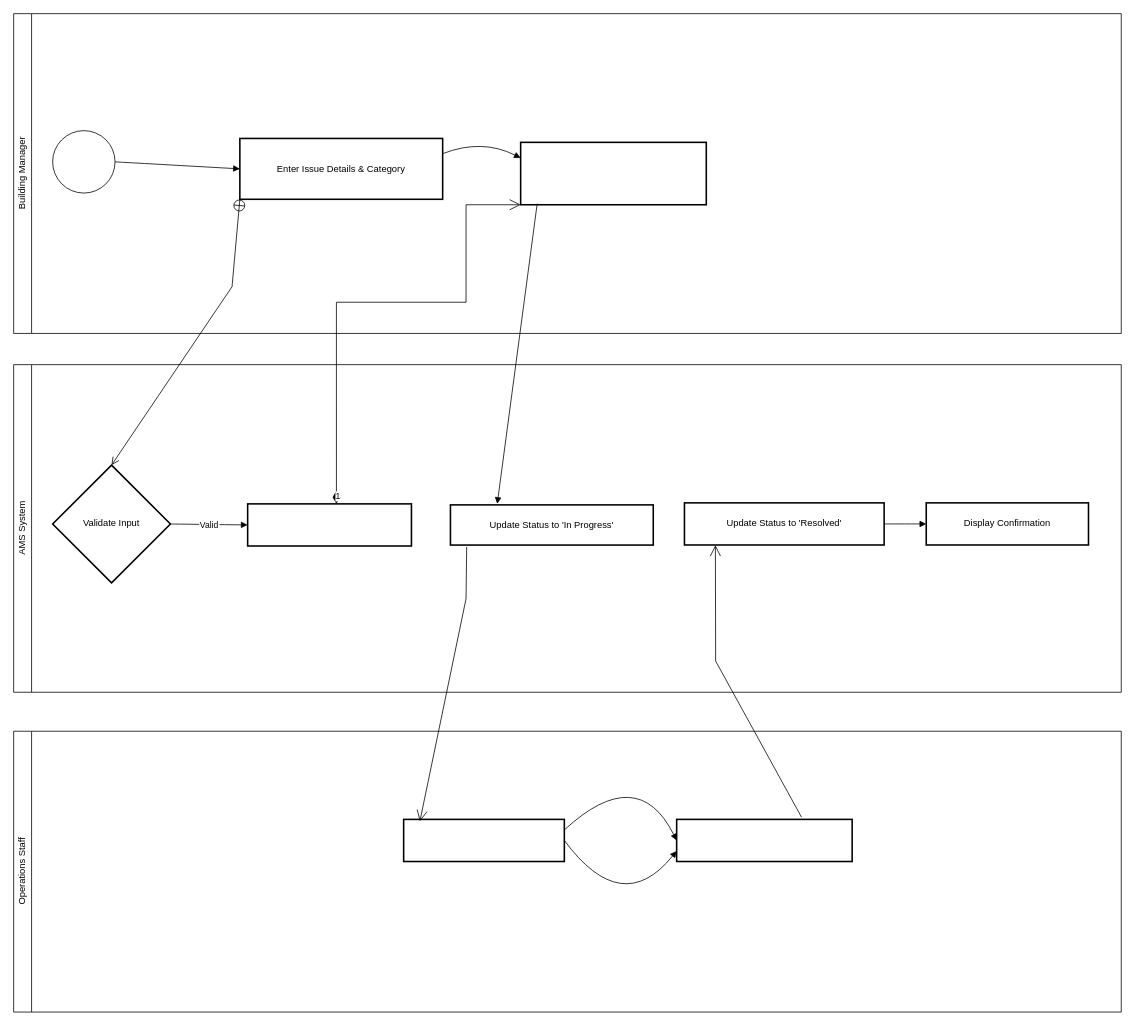
Image size: 1135x1026. Some labels were removed from this diagram. The centre of each missing label's shape, as x and y in pixels:
"Assign Responsible Staff" goes at point (613, 173).
"Enter Resolution Notes" goes at point (764, 840).
"Perform Repair Task" goes at point (483, 840).
"Save Issue as 'Open'" goes at point (329, 524).
